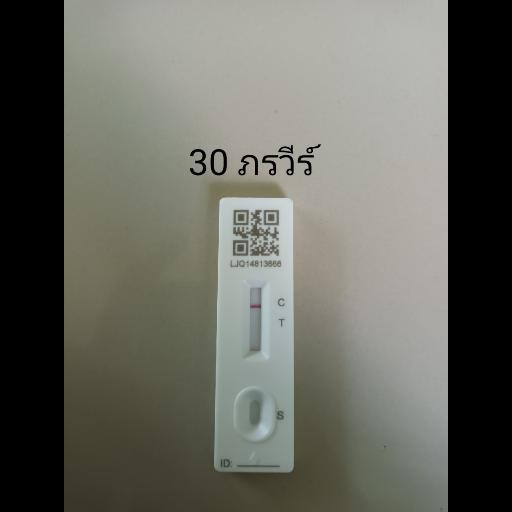Neg: (216, 194, 296, 474)
